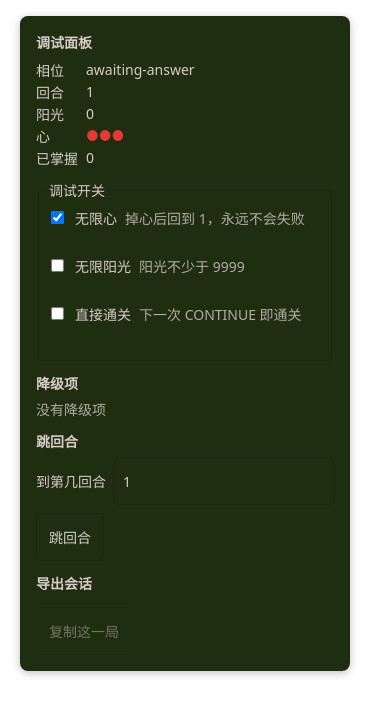
Test case: 组 F —— 面板上的「跳到任意回合」（Story 1.17 / Task 7.1、AR40） › 输入 6 点按钮 ⇒ 盘上真的到了第 6 回合，面板如实报出来
Replace the text in the number field labelled "到第几回合" with "6" at (224, 481), box [114, 457, 334, 505]
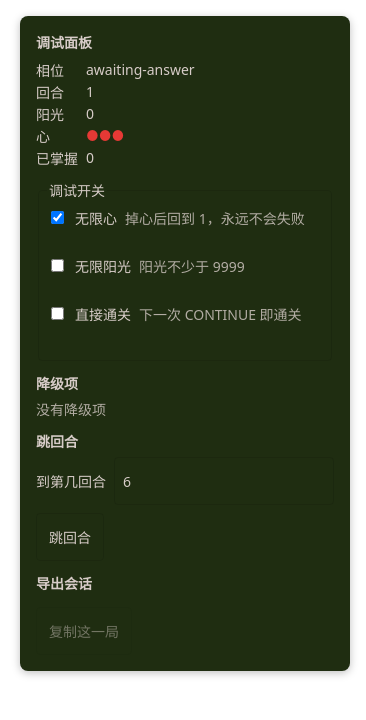
Click the button "跳回合" at (70, 537), box [36, 513, 104, 561]
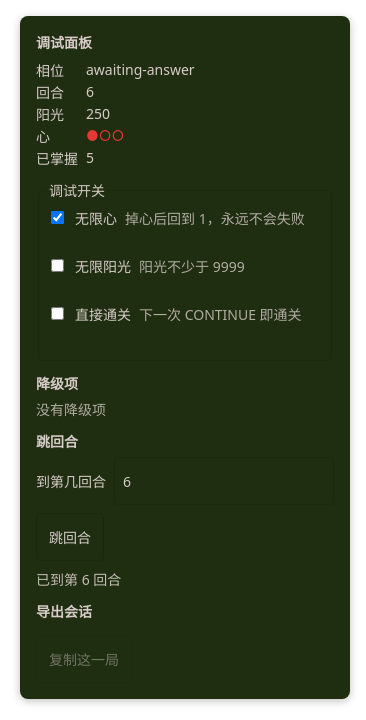
Expected: the text "已到第 6 回合" is shown, [36, 570, 121, 589]
